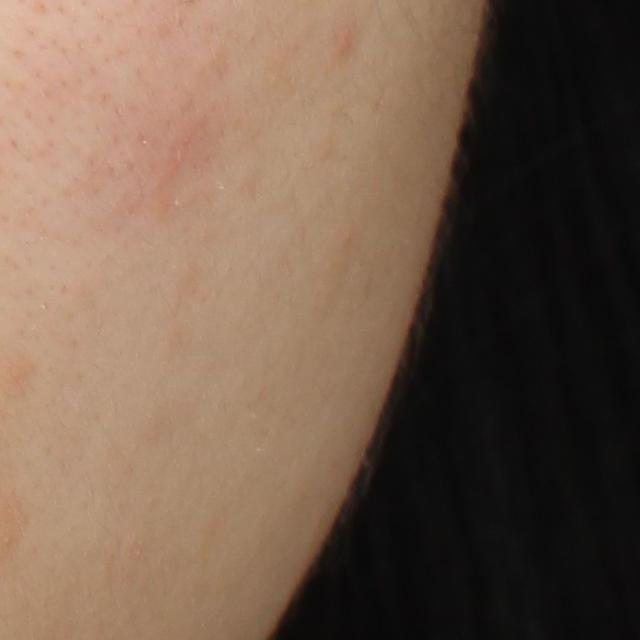papule: (331, 26, 359, 59)
